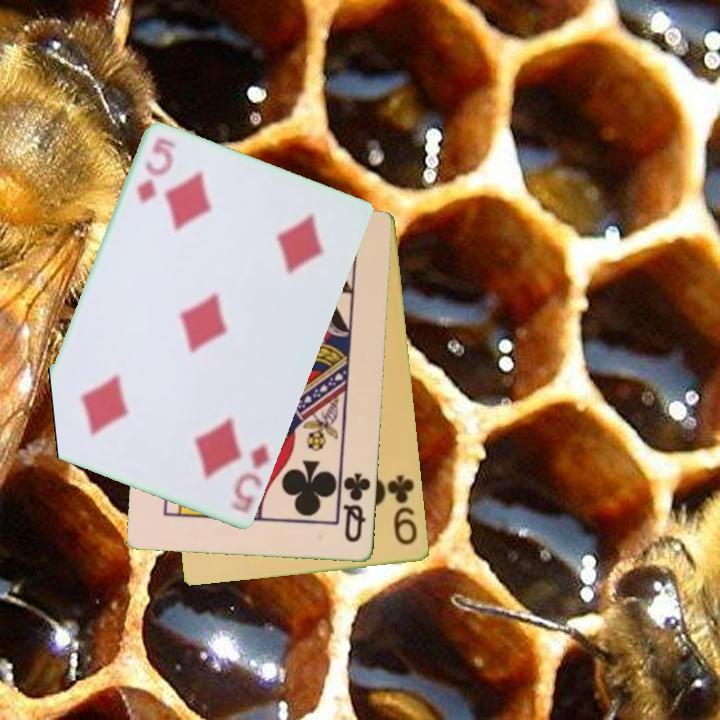5d: (231, 439, 274, 516), (133, 135, 176, 207)
9c: (384, 471, 421, 548)
Qc: (340, 469, 374, 546)
